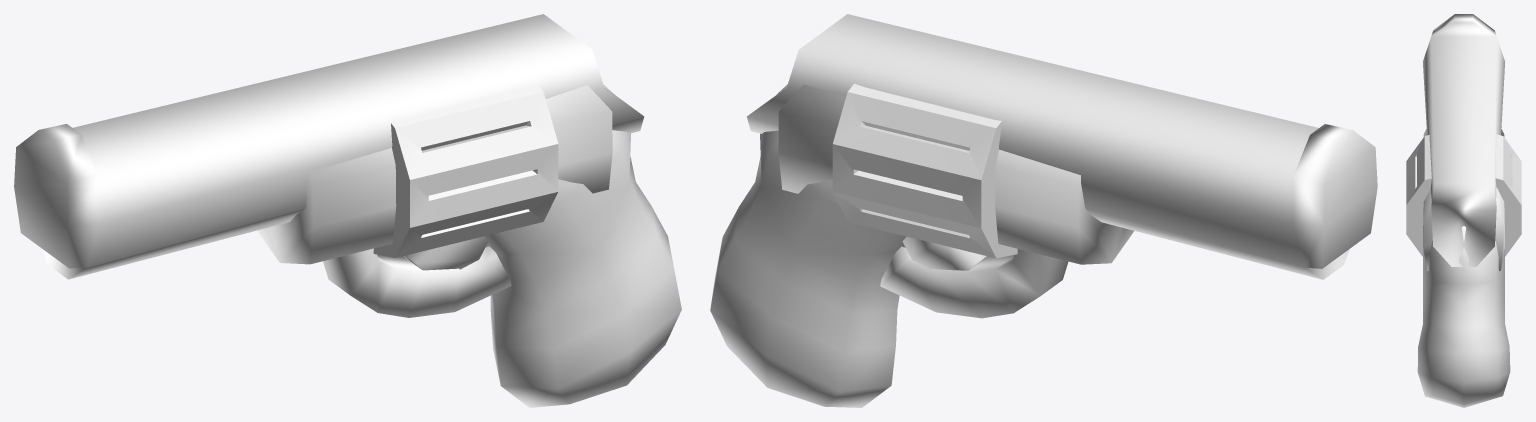
Rendered from Revolver.fbx.
3 renders of one model, left to right at view 1: azimuth 30°, elevation 25°; view 2: azimuth 150°, elevation 25°; view 3: azimuth 270°, elevation 25°, orthographic. The views are drawn at different scales.
Visible parts, largest first — view 1: RevolverOutline; view 2: RevolverOutline; view 3: RevolverOutline.
Part boxes in pixels (x1,y1,x2,y2): RevolverOutline: [14, 14, 681, 407]; RevolverOutline: [710, 14, 1377, 407]; RevolverOutline: [1406, 14, 1521, 407].
Bounding box in the file's own units: 0.1261 × 0.074 × 0.0325.
1 material, 1 textured.
